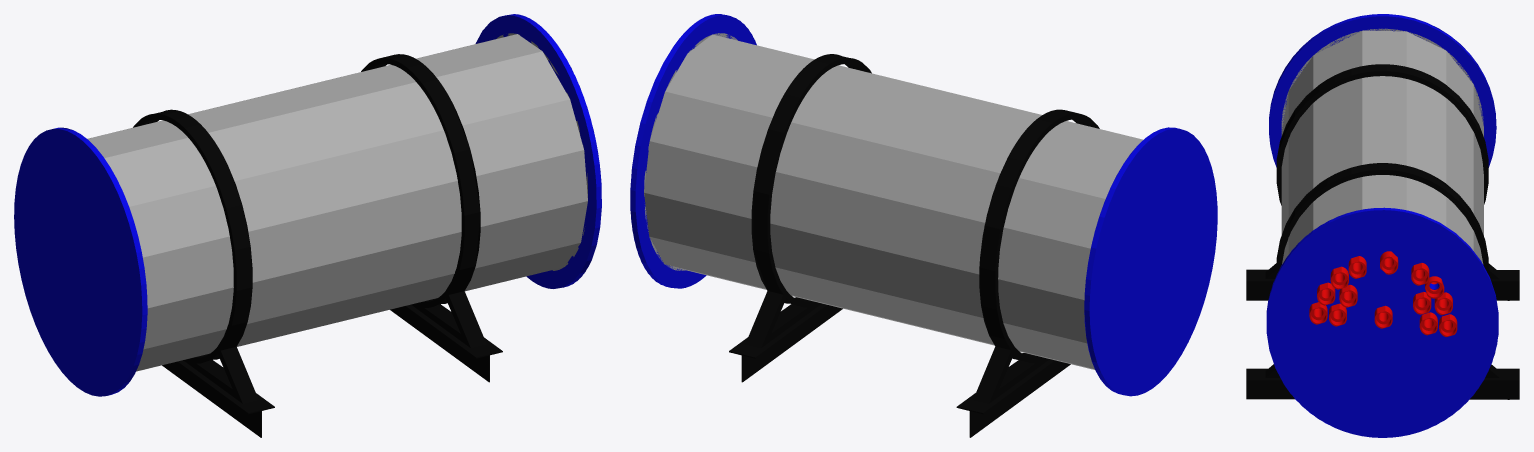
The model's file is hull.dae.
3 renders of one model, left to right at view 1: azimuth 30°, elevation 25°; view 2: azimuth 150°, elevation 25°; view 3: azimuth 270°, elevation 25°, orthographic. The views are drawn at different scales.
Parts seen in each view (by area): view 1: screw-4; view 2: screw-4; view 3: screw-4.
Boxes of the visible parts, left/top/right/bottom form: screw-4: left=14, top=14, right=601, bottom=437; screw-4: left=630, top=14, right=1217, bottom=437; screw-4: left=1246, top=14, right=1519, bottom=437.
Size of the model in its own units: 0.442 by 0.25 by 0.245.
